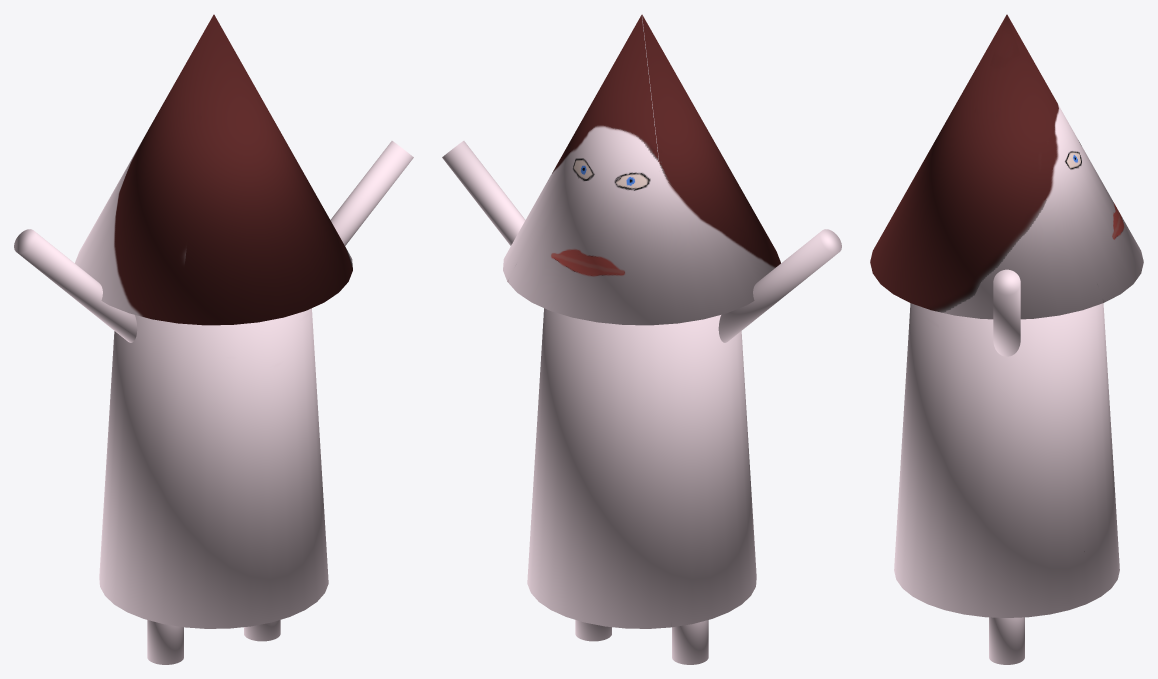
Rendered from player.fbx.
The picture shows the model from 3 angles, left to right: view 1: azimuth 30°, elevation 25°; view 2: azimuth 150°, elevation 25°; view 3: azimuth 270°, elevation 25°; orthographic projection.
Parts seen in each view (by area): view 1: TexturedPlayer; view 2: TexturedPlayer; view 3: TexturedPlayer.
Boxes of the visible parts, left/top/right/bottom form: TexturedPlayer: left=14, top=14, right=413, bottom=664; TexturedPlayer: left=442, top=14, right=841, bottom=664; TexturedPlayer: left=870, top=14, right=1143, bottom=664.
Size of the model in its own units: 81.82 by 125 by 50.
1 material, 1 textured.
